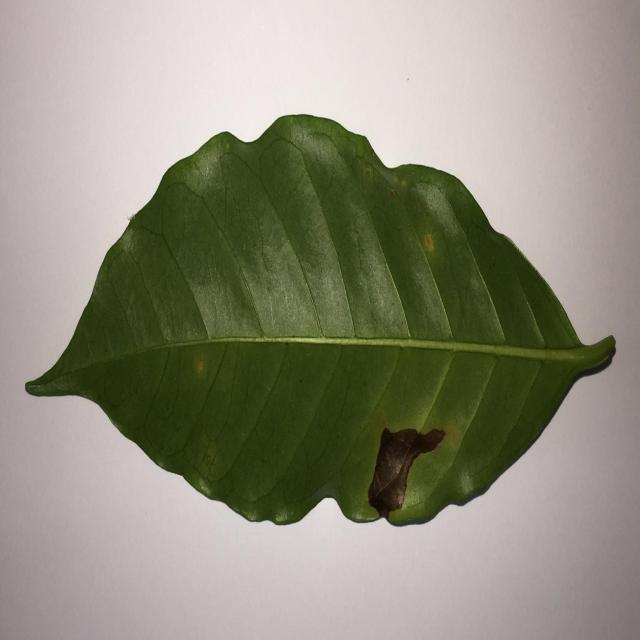Plaga-Minador: (23, 114, 617, 530)
